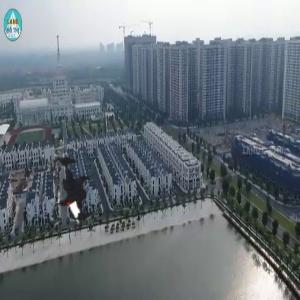drone: (12, 135, 123, 246)
